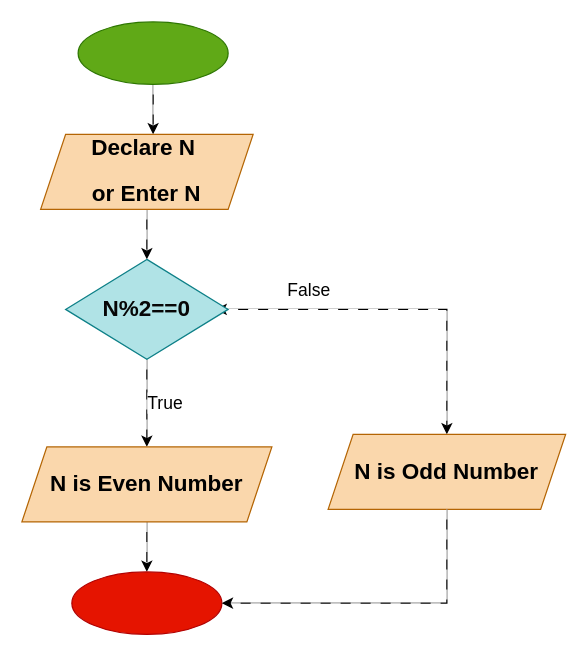
Some shapes in this 588 by 656 pixel diagram are drawn without their labels. Each missing label, with the centre of its shape:
"End" goes at [146,602].
"Start" goes at [152,52].
